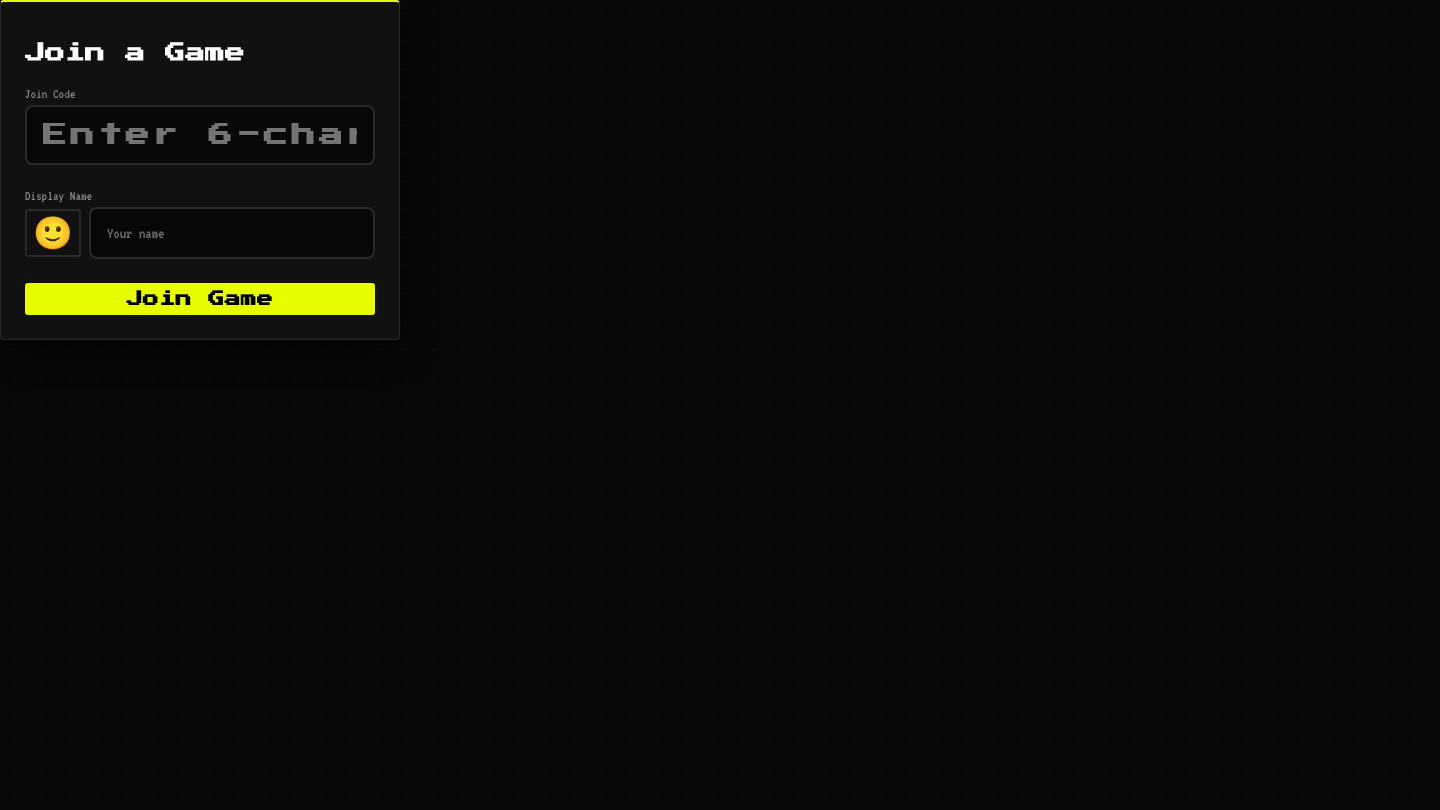
Test: JoinForm › shows error when join code is empty
Click the button "Join Game": (200, 299) [25,283,375,315]
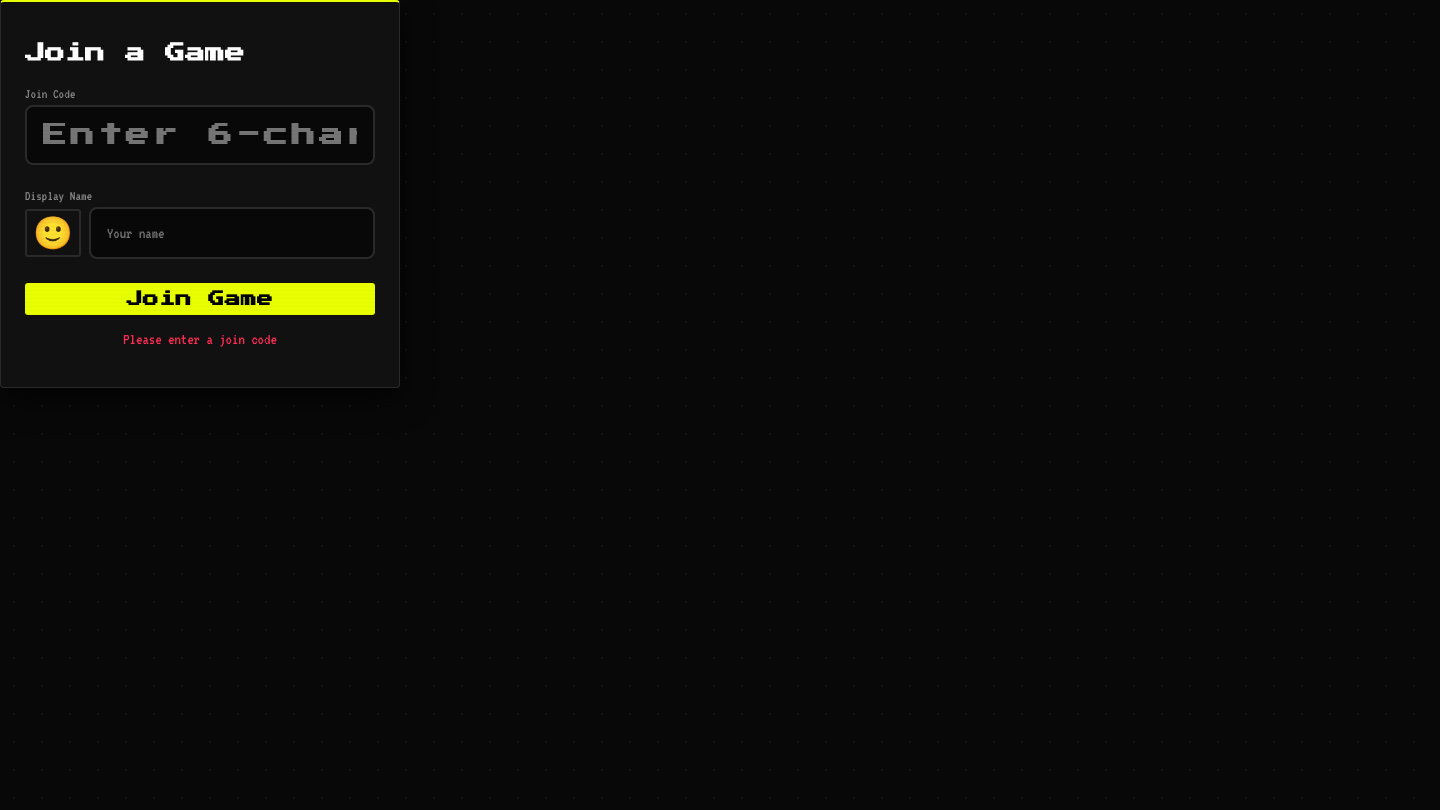
Check: the text "Please enter a join code" is shown, box [123,331,277,347]
